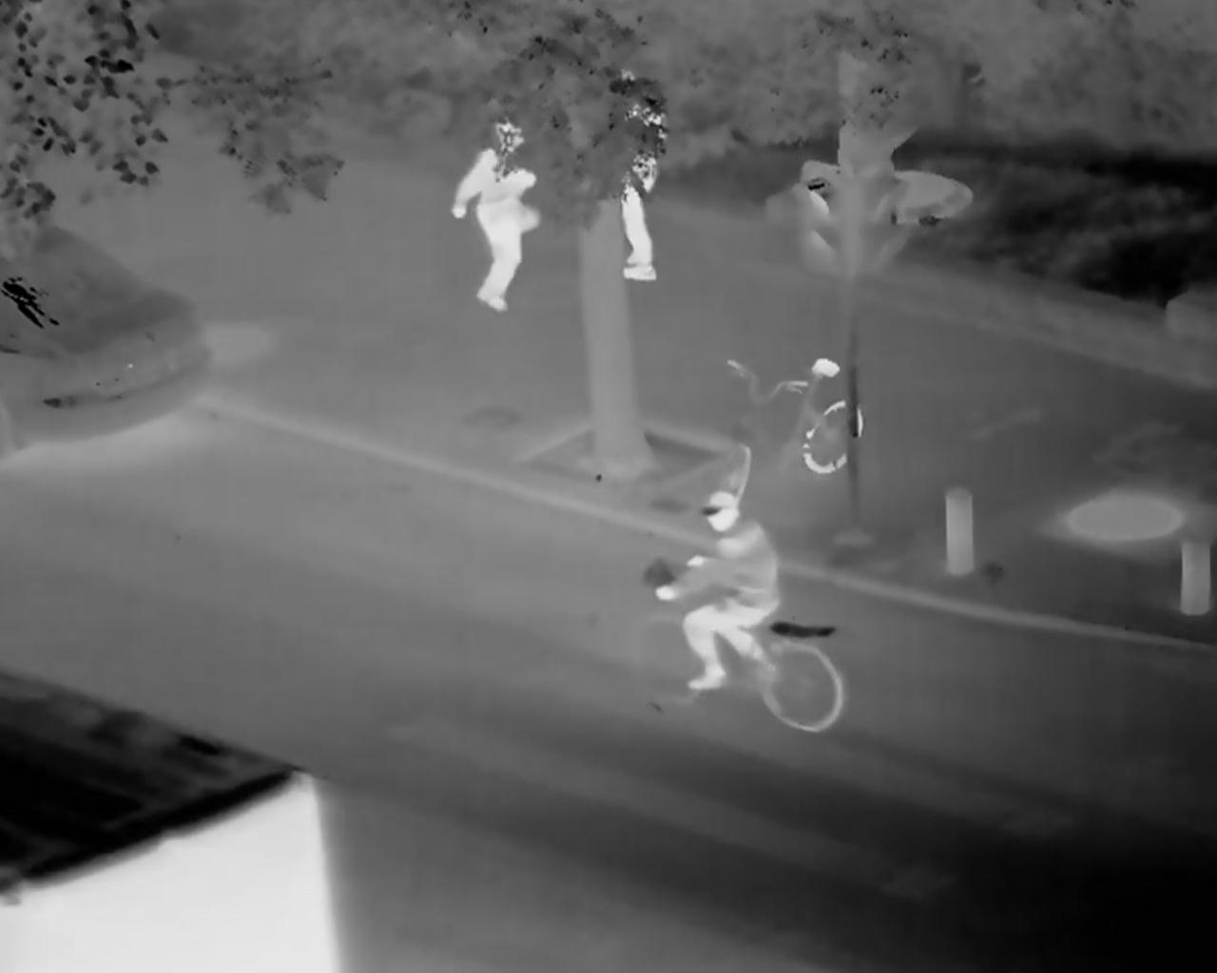person: (656, 487, 783, 707), (583, 70, 663, 289), (450, 120, 533, 316)
